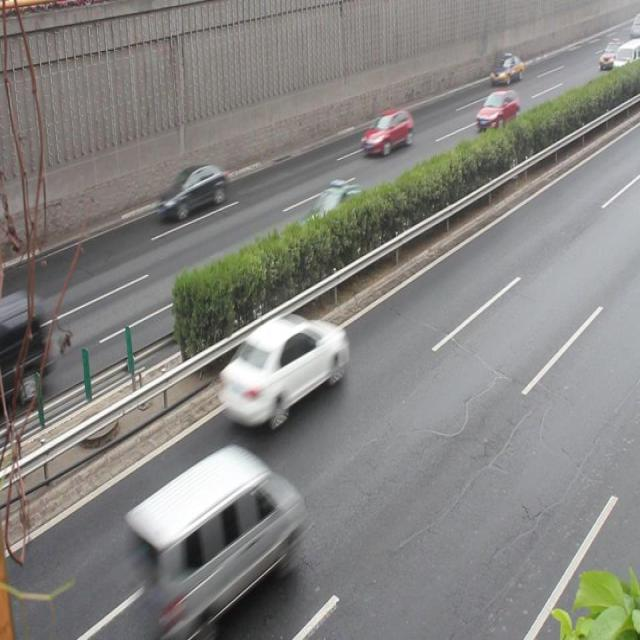car: (218, 312, 346, 428), (298, 182, 372, 246), (156, 162, 224, 222), (362, 110, 413, 156), (476, 89, 518, 131)
truck: (120, 449, 296, 621), (0, 294, 50, 402)
